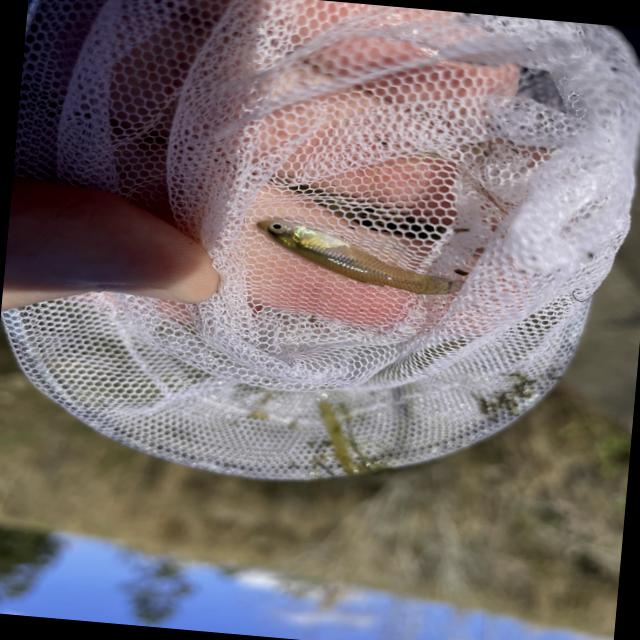Sivrisinek Baligi: (0, 0, 640, 511), (244, 212, 473, 316)
